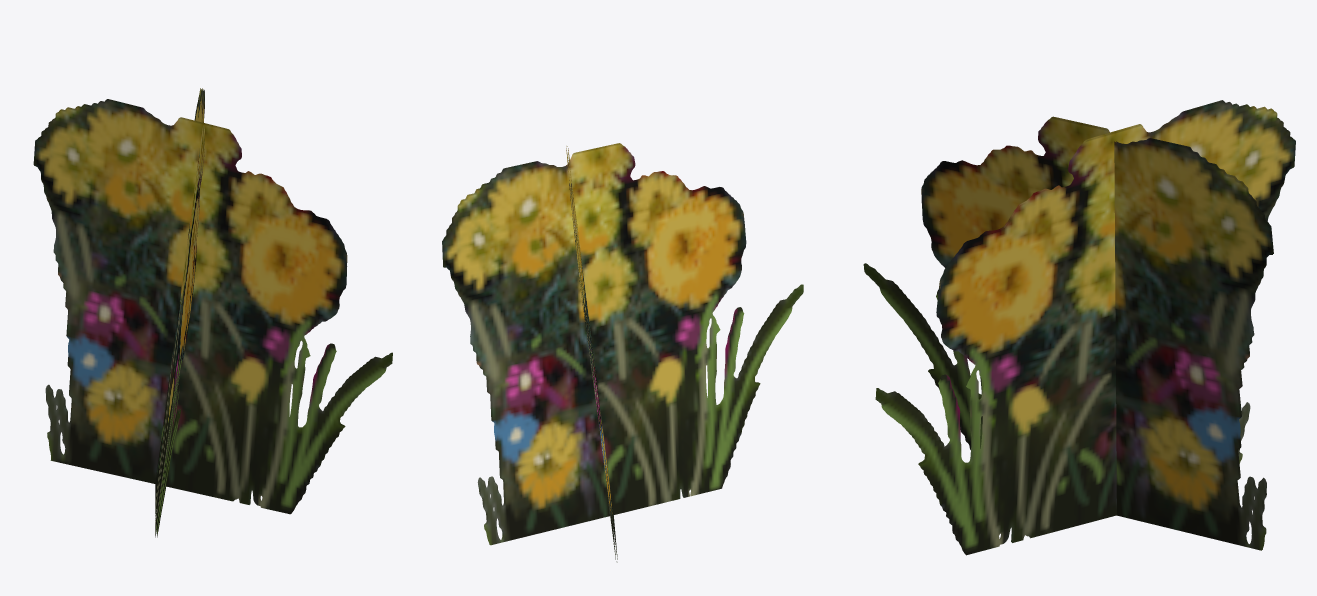
The model's file is flower_01b_ds.fbx.
The picture shows the model from 3 angles, left to right: view 1: azimuth 30°, elevation 25°; view 2: azimuth 150°, elevation 25°; view 3: azimuth 270°, elevation 25°; orthographic projection. The views are drawn at different scales.
Visible parts, largest first — view 1: flower_01b_ds; view 2: flower_01b_ds; view 3: flower_01b_ds.
Part boxes in pixels (left/top/right/bottom): flower_01b_ds: left=33, top=88, right=392, bottom=537; flower_01b_ds: left=442, top=143, right=803, bottom=562; flower_01b_ds: left=863, top=100, right=1295, bottom=555.
Bounding box in the file's own units: 0.3269 × 0.4827 × 0.4354.
